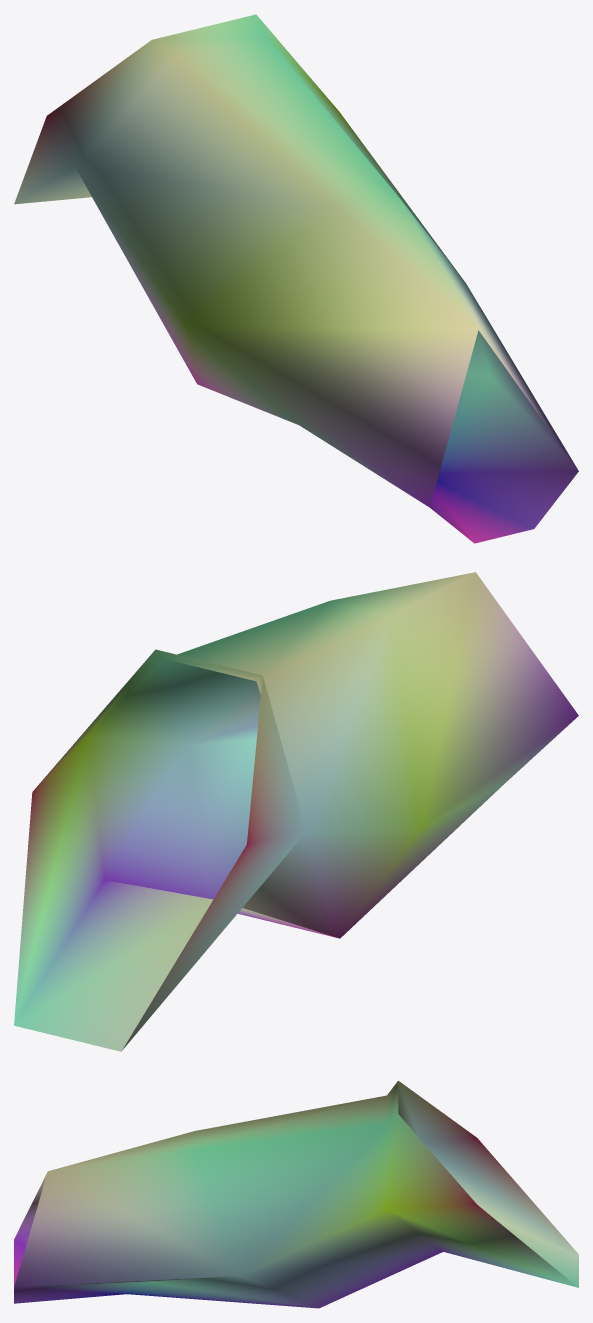
3 views of the same model, one above another, from view 1: azimuth 30°, elevation 25°; view 2: azimuth 150°, elevation 25°; view 3: azimuth 270°, elevation 25° (orthographic). The views are drawn at different scales.
Visible parts, largest first — view 1: part; view 2: part; view 3: part.
Boxes of the visible parts, x1=… form: part: x1=14, y1=14, x2=578, y2=543; part: x1=14, y1=572, x2=578, y2=1051; part: x1=14, y1=1080, x2=578, y2=1308.
Size of the model in its own units: 17 by 19 by 50.
